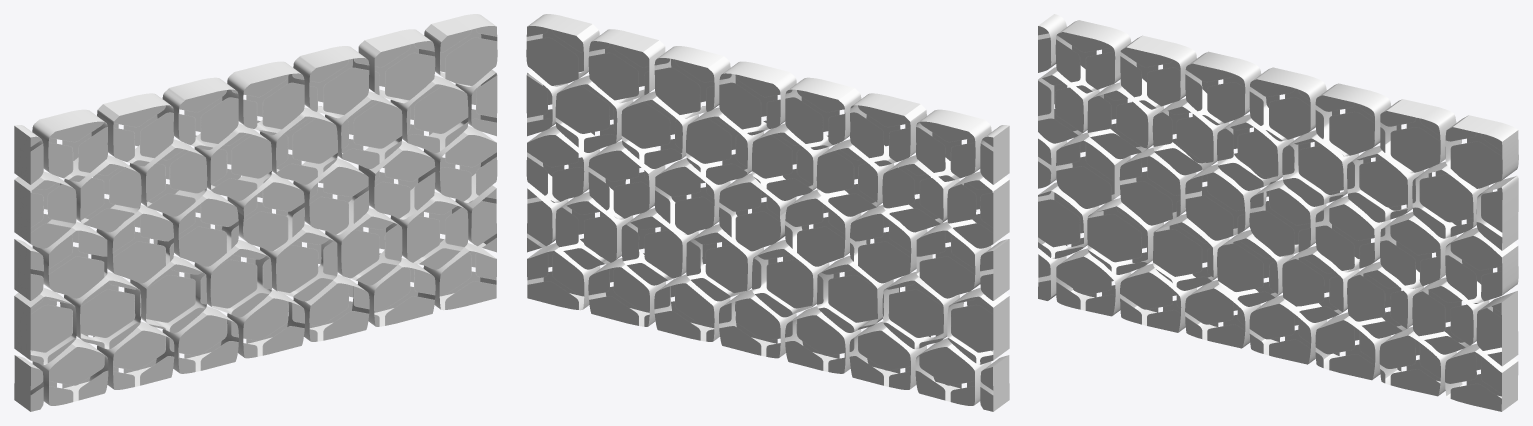
File: hex2.dae
The picture shows the model from 3 angles, left to right: view 1: azimuth 30°, elevation 25°; view 2: azimuth 150°, elevation 25°; view 3: azimuth 330°, elevation 25°; orthographic projection.
Parts seen in each view (by area): view 1: Artboard_1; view 2: Artboard_1; view 3: Artboard_1.
Part boxes in pixels (x1,y1,x2,y2): Artboard_1: (14,14,497,411); Artboard_1: (526,14,1009,411); Artboard_1: (1038,14,1518,411).
Bounding box in the file's own units: 19 × 10.72 × 1.15.
3 materials, 3 textured.
